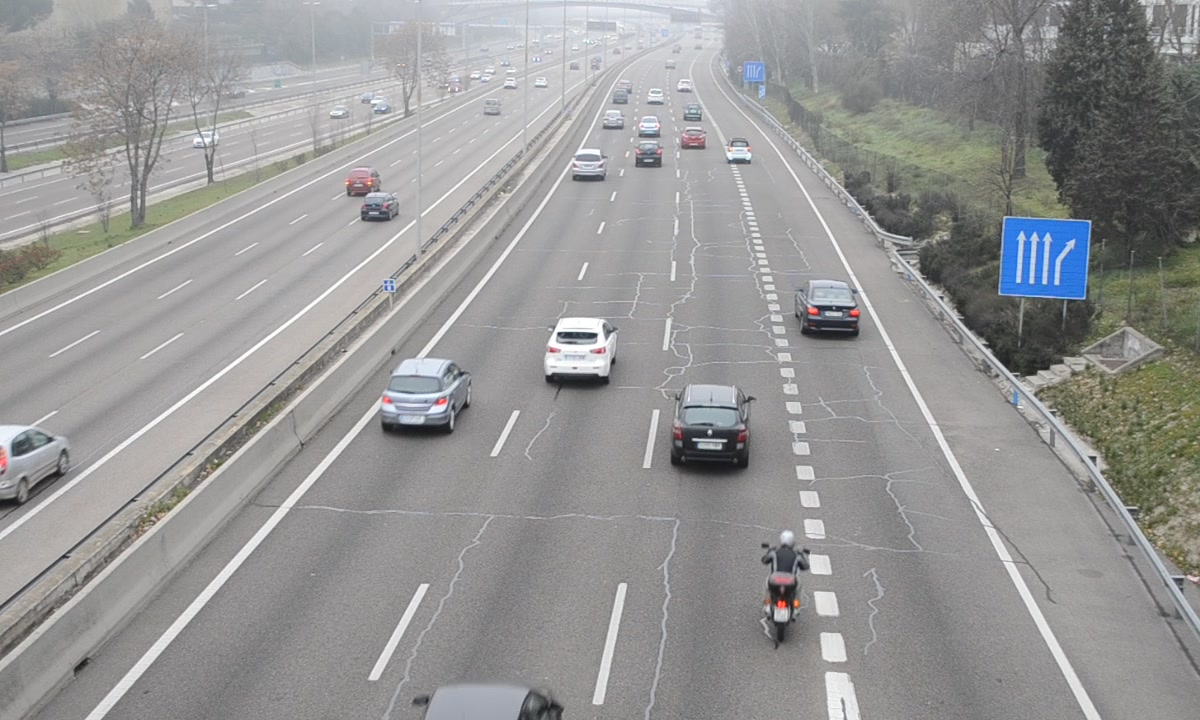car: (670, 385, 751, 467), (381, 358, 469, 433), (547, 317, 620, 380), (797, 278, 862, 337), (571, 148, 609, 182), (724, 136, 753, 164), (635, 139, 663, 167), (681, 125, 709, 151), (637, 115, 662, 139)
motorcycle: (755, 531, 815, 646)
